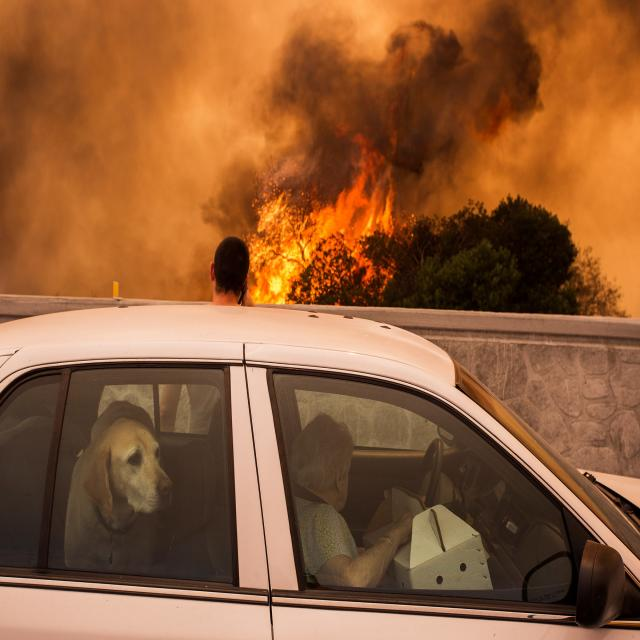Fire: (245, 89, 416, 307)
